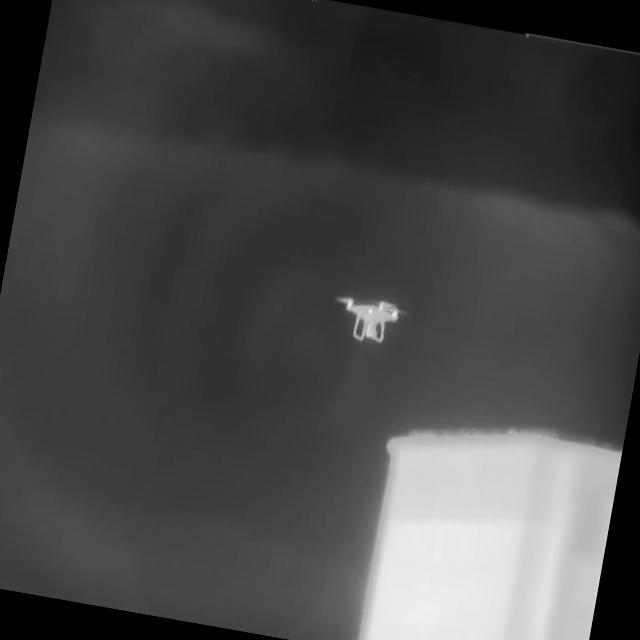DRONE: (332, 290, 410, 343)
